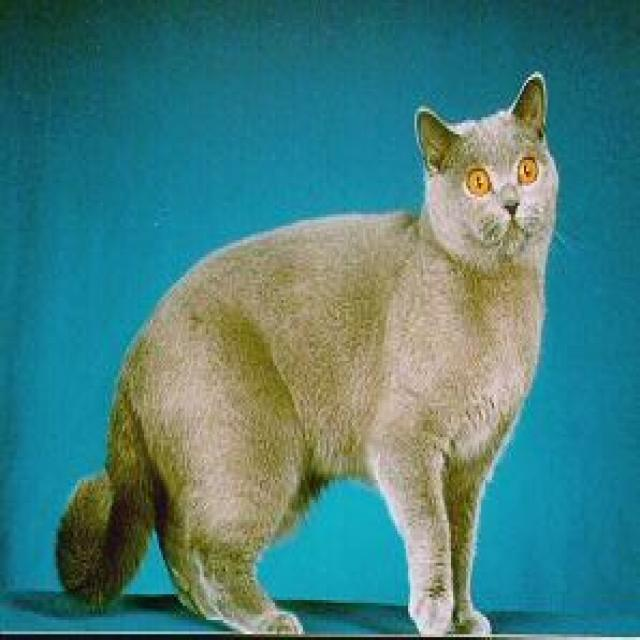British_Shorthair: (416, 69, 562, 327)
